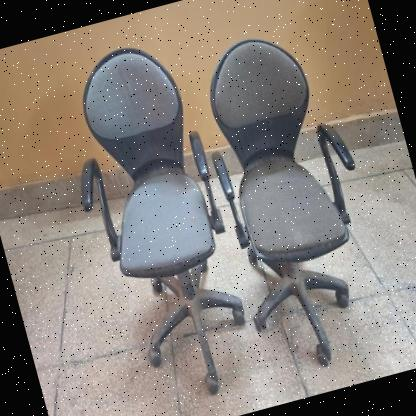chair: (38, 25, 274, 416), (173, 13, 405, 380)
